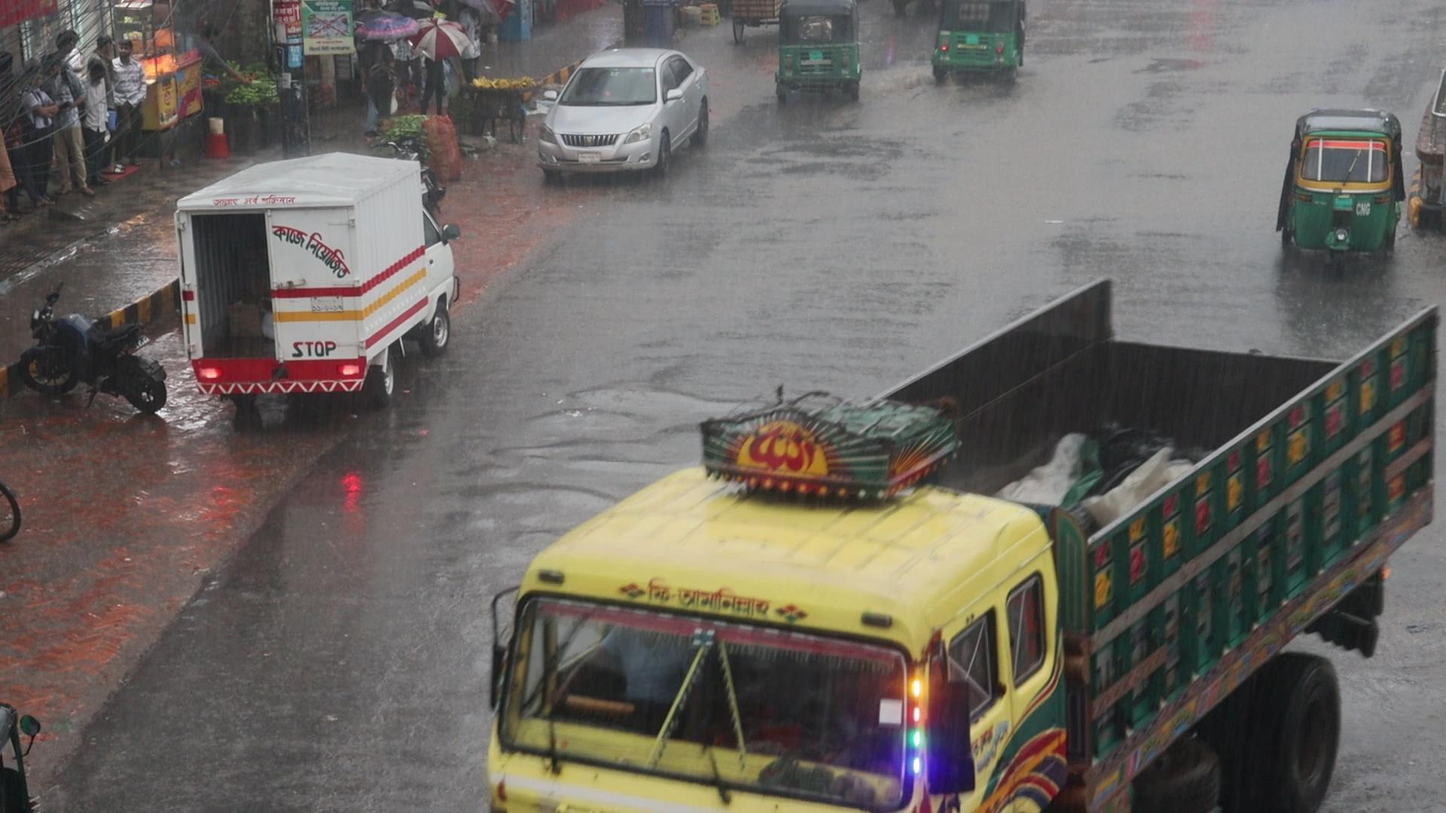Truck: (487, 266, 1443, 813)
